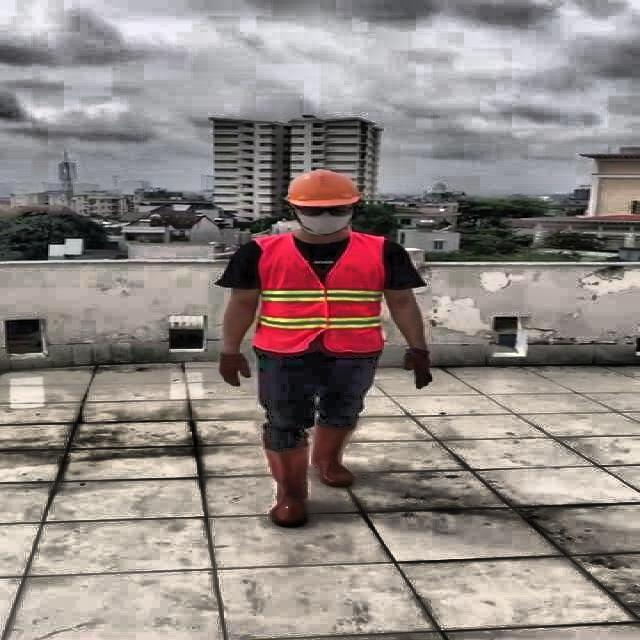safety_helmet: (281, 167, 366, 208)
safety_jacket: (249, 233, 384, 354)
